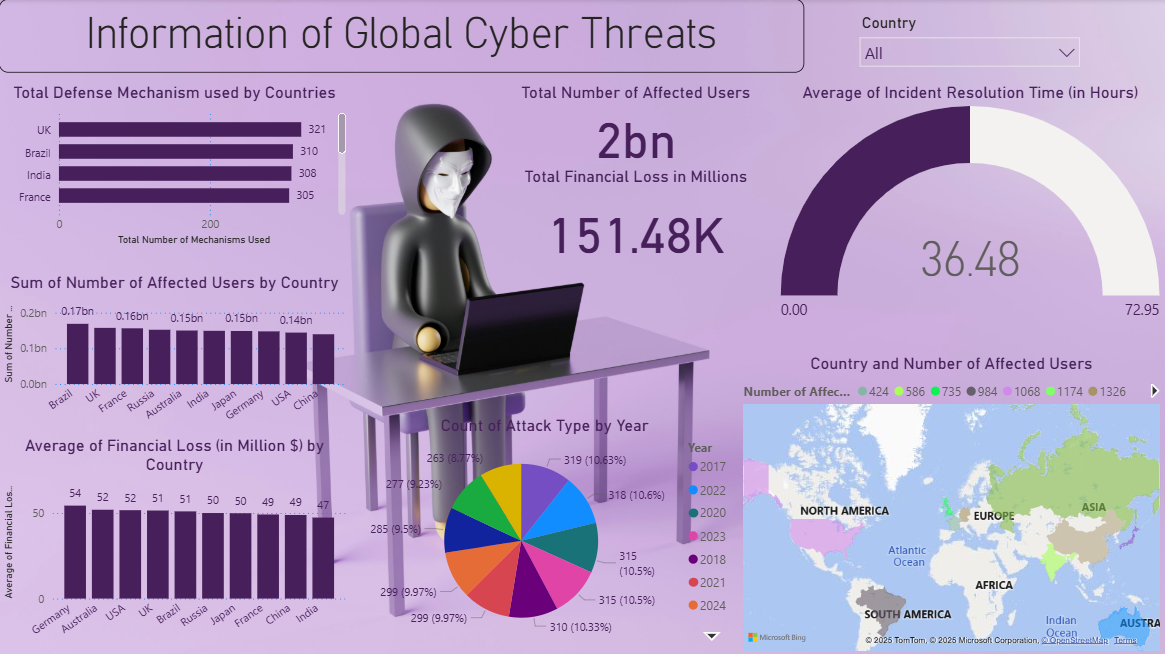

What the dashboard file says about the page in this screenshot:
{"tool":"powerbi","page":{"name":"Page 1","canvas":[1280,720],"ordinal":0},"visuals":[{"type":"barChart","title":"Total Defense Mechanism used by Countries","fields":{"Category":["Cybersecurity_2015_2024.Country"],"Y":["CountNonNull(Cybersecurity_2015_2024.Defense Mechanism Used)"]},"box":[0,91.9,385.6,183.9],"z":0},{"type":"clusteredColumnChart","fields":{"Category":["Cybersecurity_2015_2024.Country"],"Y":["Sum(Cybersecurity_2015_2024.Number of Affected Users)"]},"box":[0,300.5,385.6,178.4],"z":1000},{"type":"clusteredColumnChart","fields":{"Y":["Avg(Cybersecurity_2015_2024.Financial Loss (in Million $))"],"Category":["Cybersecurity_2015_2024.Country"]},"box":[0,478.9,385.6,241.5],"z":2000},{"type":"card","title":"Total Number of Affected Users","fields":{"Values":["Sum(Cybersecurity_2015_2024.Number of Affected Users)"]},"box":[562.6,91.9,273.1,91.9],"z":3000},{"type":"card","title":"Total Financial Loss in Millions","fields":{"Values":["Sum(Cybersecurity_2015_2024.Financial Loss (in Million $))"]},"box":[562.6,183.9,273.1,116.6],"z":4000},{"type":"pieChart","fields":{"Category":["Cybersecurity_2015_2024.Year"],"Y":["CountNonNull(Cybersecurity_2015_2024.Attack Type)"]},"box":[385.6,456.9,426.8,255.2],"z":5000},{"type":"gauge","fields":{"Y":["Avg(Cybersecurity_2015_2024.Incident Resolution Time (in Hours))"]},"box":[852.1,91.9,428.1,270.3],"z":6000},{"type":"filledMap","fields":{"Category":["Cybersecurity_2015_2024.Country"],"Series":["Cybersecurity_2015_2024.Number of Affected Users"]},"box":[812.4,389.7,466.6,330.7],"z":7000},{"type":"slicer","fields":{"Values":["Cybersecurity_2015_2024.Country"]},"box":[934.5,11,262.1,81],"z":8000},{"type":"textbox","box":[0,0,883.7,81],"z":9000}]}

Visuals, with their boxes in screenshot pixels (x1, y1, x2, y2), scaled from the page's 1280x720 canvas onto the 1165x654 screenshot:
"Total Defense Mechanism used by Countries" barChart: (0,83,351,251)
clusteredColumnChart - Cybersecurity_2015_2024.Country x Sum(Cybersecurity_2015_2024.Number of Affected Users): (0,273,351,435)
clusteredColumnChart - Avg(Cybersecurity_2015_2024.Financial Loss (in Million $)) x Cybersecurity_2015_2024.Country: (0,435,351,653)
"Total Number of Affected Users" card: (512,83,761,167)
"Total Financial Loss in Millions" card: (512,167,761,273)
pieChart - Cybersecurity_2015_2024.Year x CountNonNull(Cybersecurity_2015_2024.Attack Type): (351,415,739,647)
gauge - Avg(Cybersecurity_2015_2024.Incident Resolution Time (in Hours)): (776,83,1164,329)
filledMap - Cybersecurity_2015_2024.Country x Cybersecurity_2015_2024.Number of Affected Users: (739,354,1164,653)
slicer - Cybersecurity_2015_2024.Country: (851,10,1089,84)
textbox: (0,0,804,74)
